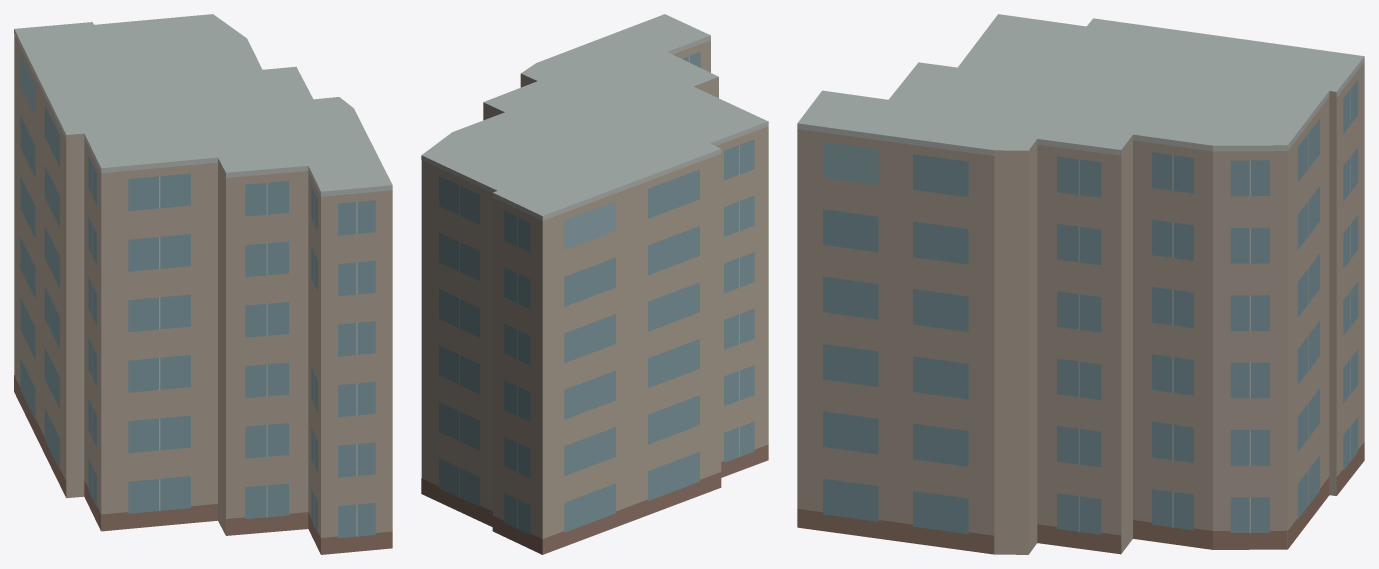
File: survey-upis-32658166.glb
3 views of the same model, side by side, from view 1: azimuth 30°, elevation 25°; view 2: azimuth 150°, elevation 25°; view 3: azimuth 270°, elevation 25° (orthographic). The views are drawn at different scales.
Visible parts, largest first — view 1: survey-upis-32658166.tmp; view 2: survey-upis-32658166.tmp; view 3: survey-upis-32658166.tmp.
Part boxes in pixels (bbox=[...]): survey-upis-32658166.tmp: bbox=[14, 14, 392, 554]; survey-upis-32658166.tmp: bbox=[421, 14, 768, 554]; survey-upis-32658166.tmp: bbox=[797, 14, 1364, 554].
Bounding box in the file's own units: 12.56 × 17.3 × 22.02.
